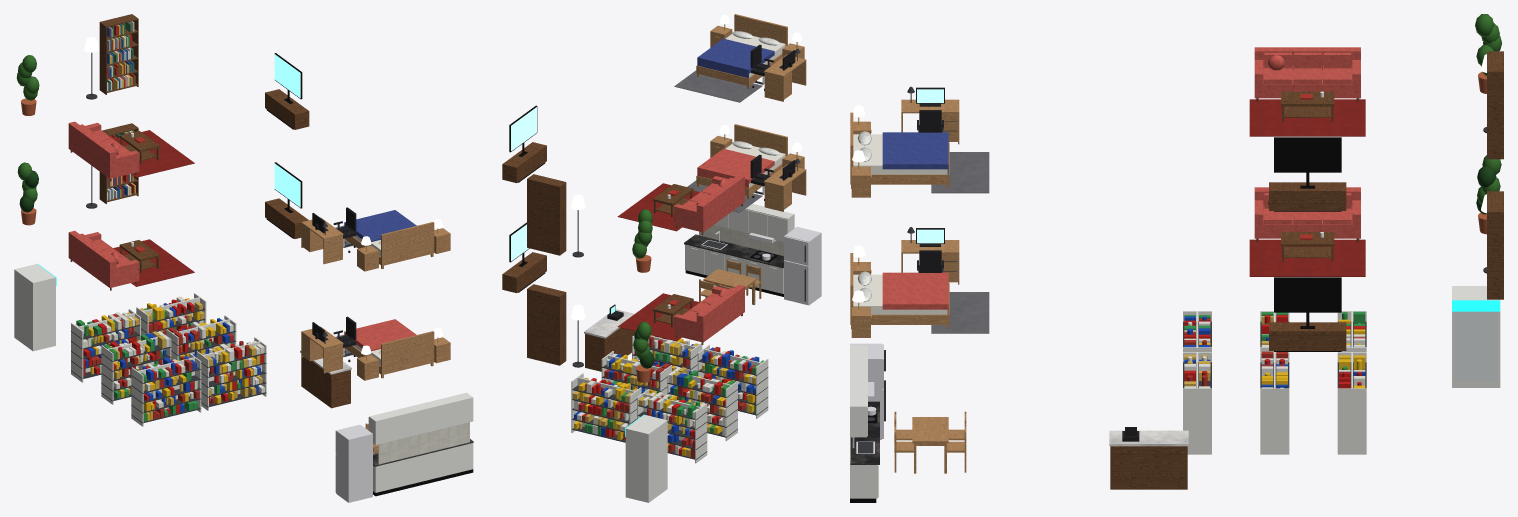
The model's file is i_sg_shophouse.gltf.
3 views of the same model, side by side, from view 1: azimuth 30°, elevation 25°; view 2: azimuth 150°, elevation 25°; view 3: azimuth 270°, elevation 25° (orthographic). The views are drawn at different scales.
Parts seen in each view (by area): view 1: I_sg_shophouse; view 2: I_sg_shophouse; view 3: I_sg_shophouse.
Part boxes in pixels (x1=…): I_sg_shophouse: x1=14, y1=14, x2=473, y2=502; I_sg_shophouse: x1=502, y1=14, x2=821, y2=502; I_sg_shophouse: x1=850, y1=14, x2=1503, y2=502.
Size of the model in its own units: 6.33 by 8.6 by 13.52.
38 materials, 11 textured.
